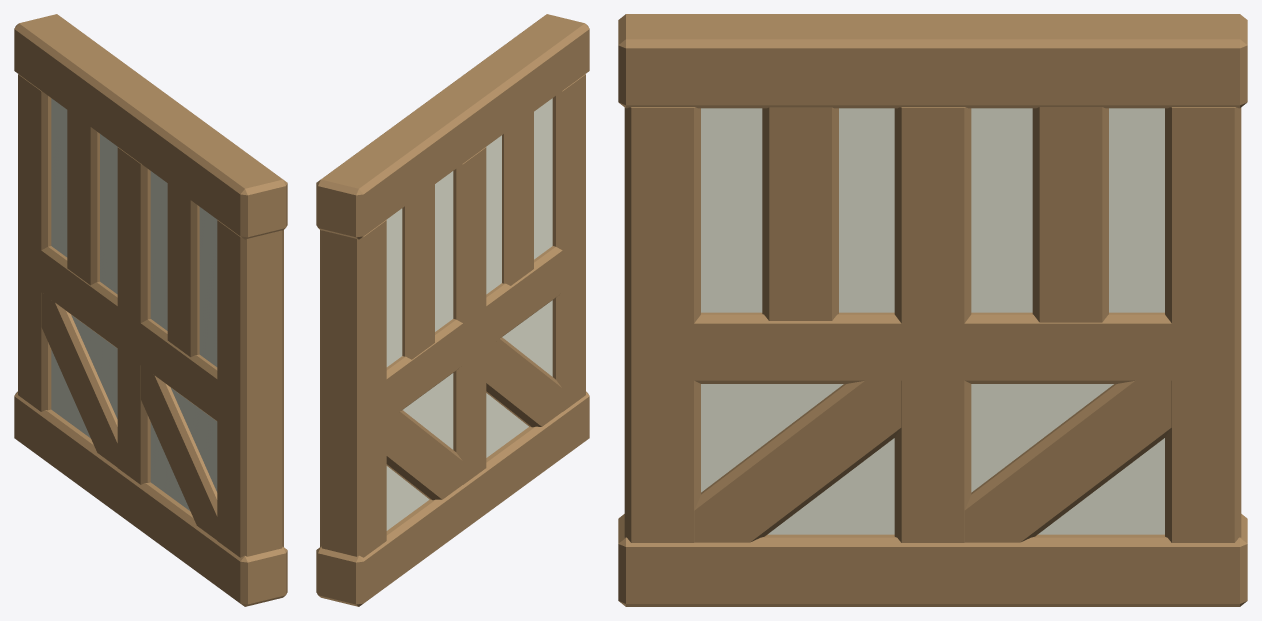
Rendered from BaseWall_8.fbx.
3 renders of one model, left to right at view 1: azimuth 30°, elevation 25°; view 2: azimuth 150°, elevation 25°; view 3: azimuth 270°, elevation 25°, orthographic. The views are drawn at different scales.
Visible parts, largest first — view 1: BaseWall.013; view 2: BaseWall.013; view 3: BaseWall.013.
Boxes of the visible parts, x1,y1,x2,y2 form: BaseWall.013: [14, 14, 287, 606]; BaseWall.013: [316, 14, 589, 606]; BaseWall.013: [618, 14, 1247, 606].
Size of the model in its own units: 0.2753 by 2.32 by 2.33.
